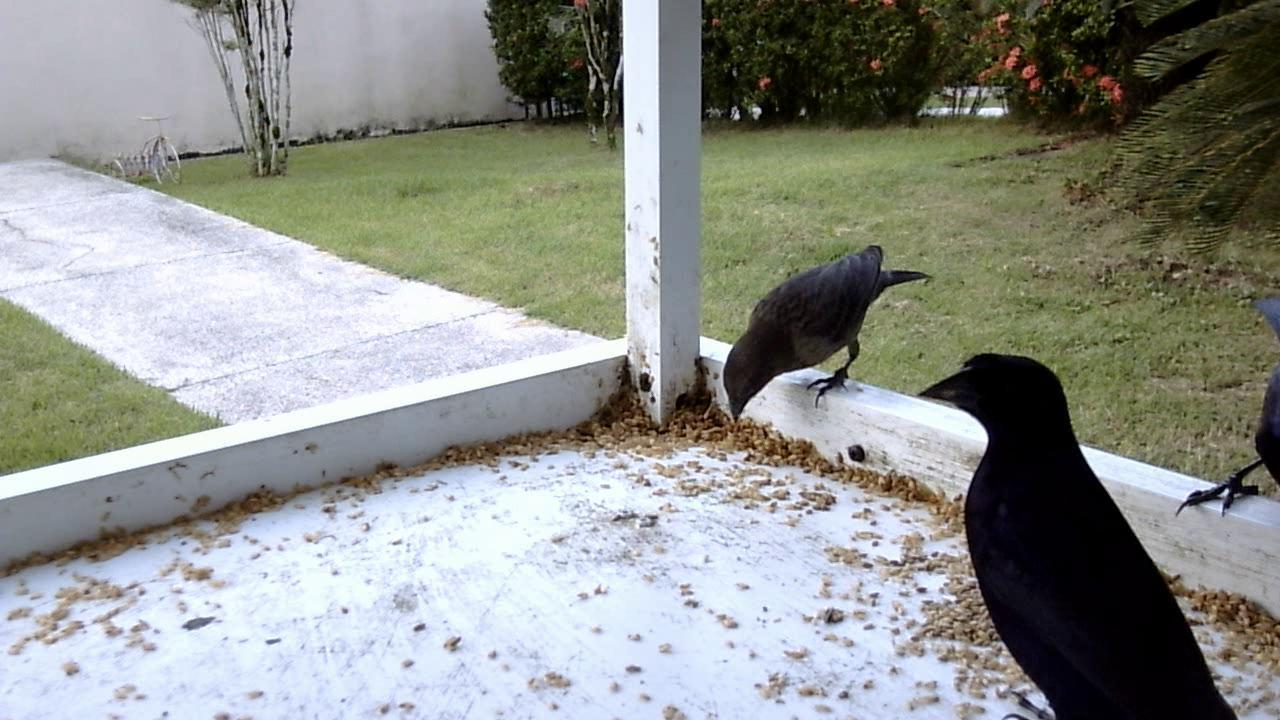chupim: (913, 348, 1250, 720), (721, 245, 931, 428), (1163, 280, 1280, 530)
